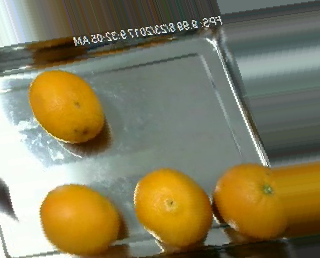Orange: (131, 167, 212, 247), (39, 182, 121, 254), (30, 69, 106, 144)
